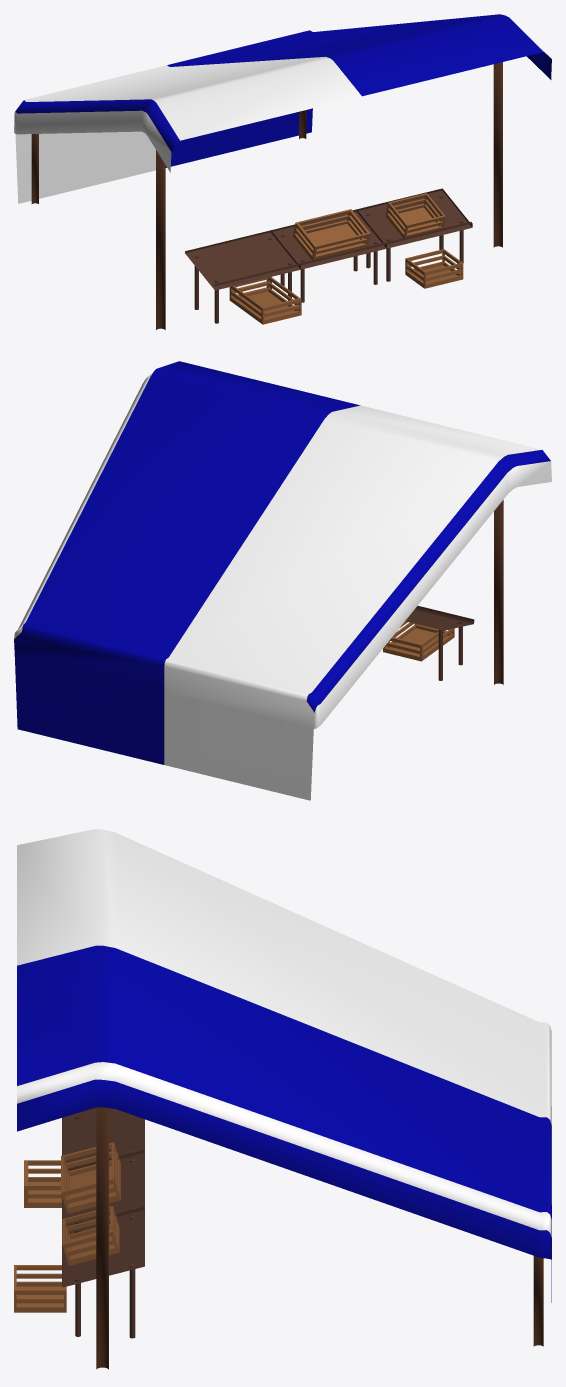
The model's file is stand_b_1.fbx.
3 renders of one model, top to bottom at view 1: azimuth 30°, elevation 25°; view 2: azimuth 150°, elevation 25°; view 3: azimuth 270°, elevation 25°, orthographic. The views are drawn at different scales.
Parts seen in each view (by area): view 1: Cube.005; view 2: Cube.005; view 3: Cube.005.
Boxes of the visible parts, box(x1,y1,x2,y2) form: Cube.005: box(14, 14, 551, 329); Cube.005: box(14, 361, 551, 800); Cube.005: box(14, 829, 551, 1369).
Size of the model in its own units: 1364 by 791 by 1227.
